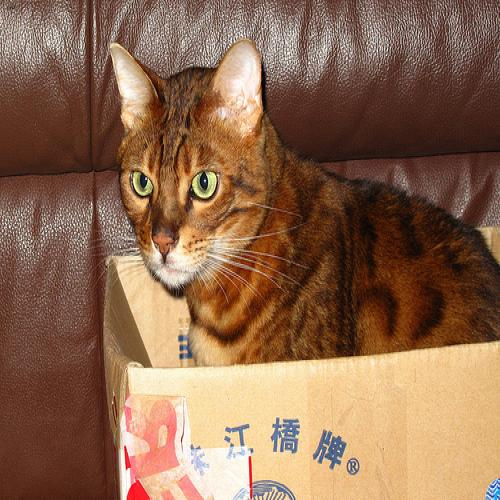bengal: (101, 31, 298, 300)
